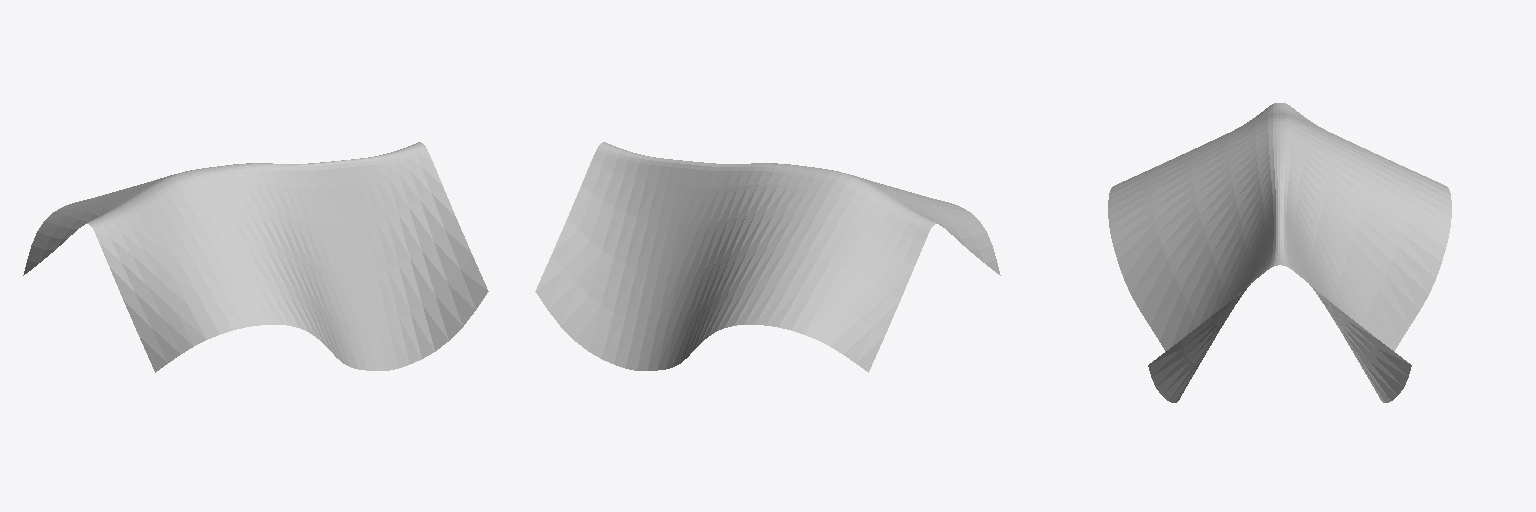
3 renders of one model, left to right at view 1: azimuth 30°, elevation 25°; view 2: azimuth 150°, elevation 25°; view 3: azimuth 270°, elevation 25°, orthographic.
Parts seen in each view (by area): view 1: strip-1-05; view 2: strip-1-05; view 3: strip-1-05.
Boxes of the visible parts, <box> form: strip-1-05: <box>23,142,488,372</box>; strip-1-05: <box>535,142,1000,372</box>; strip-1-05: <box>1108,103,1451,402</box>.
Size of the model in its own units: 0.25 by 0.1412 by 0.2233.